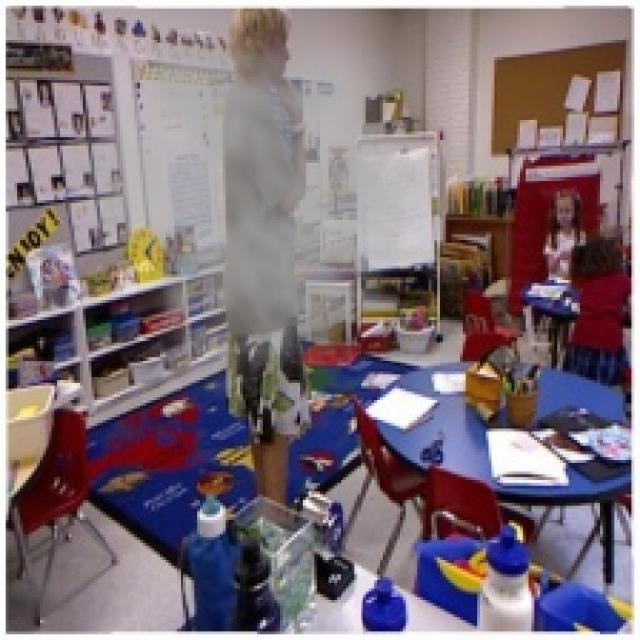Smoke: (49, 12, 468, 414)
